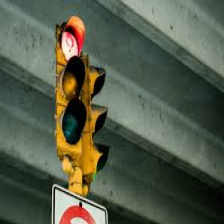semaforo: (53, 15, 89, 174)
